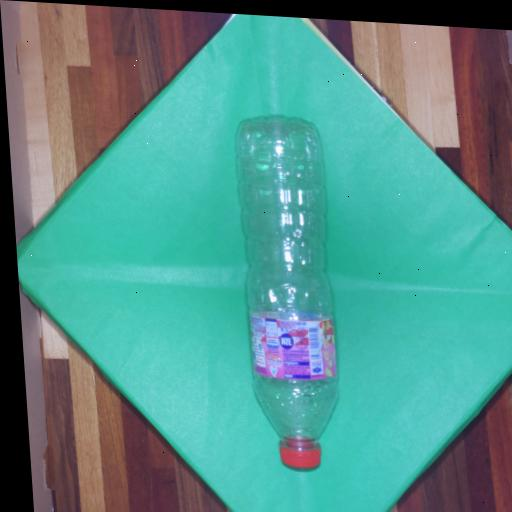bottle: (236, 118, 336, 468)
